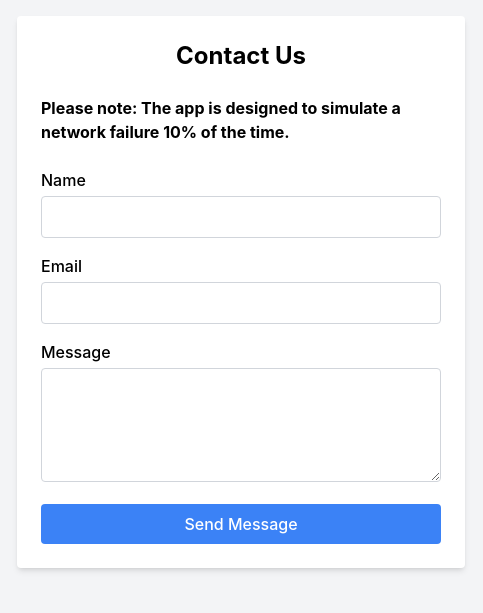
Test: ContactForm Component › validates email format
Type "Test User" into the field labelled "Name" at (241, 217), box [41,196,441,238]
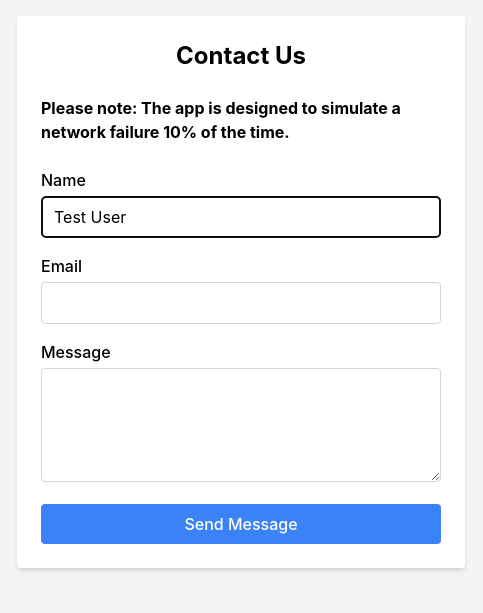
Type "invalidemail@invalid" into the field labelled "Email" at (241, 303), box [41,282,441,324]
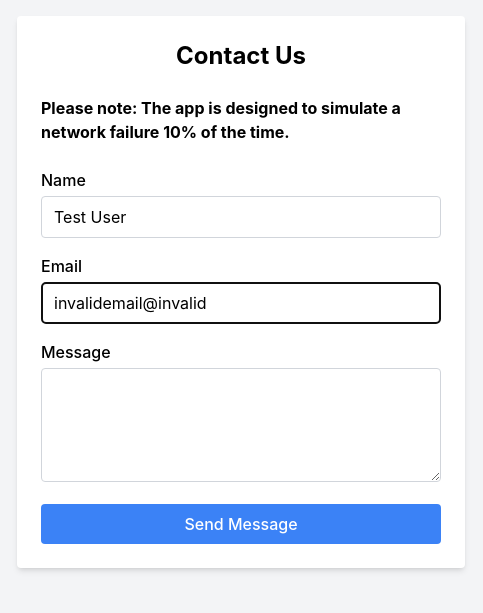
Type "Test message with at least 10 chars" into the text box labelled "Message" at (241, 425), box [41,368,441,482]
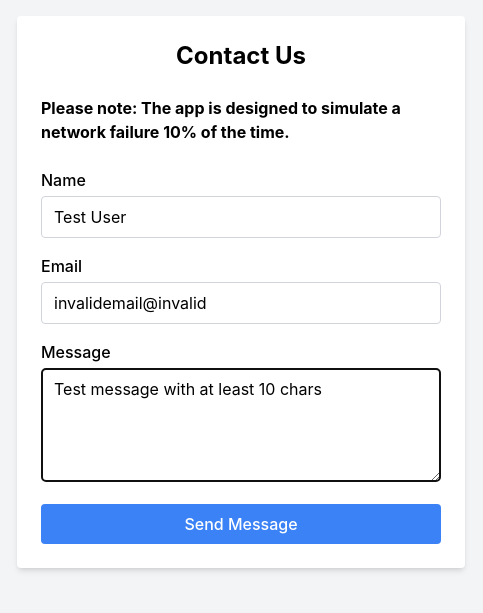
Click the button "Send Message" at (241, 524), box [41,504,441,544]
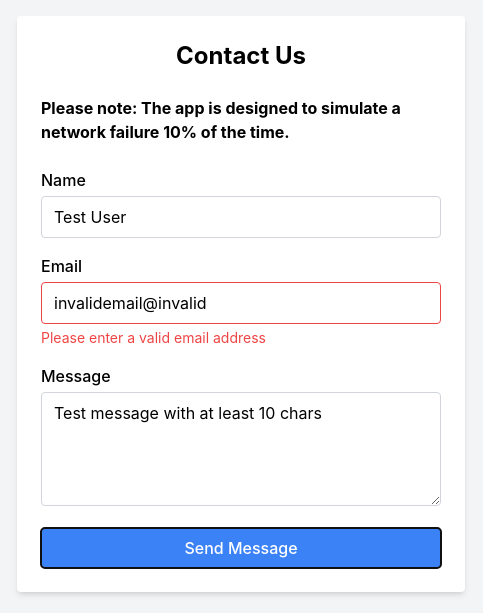
Check: the text "Please enter a valid email address" is shown, box [41,329,266,346]
